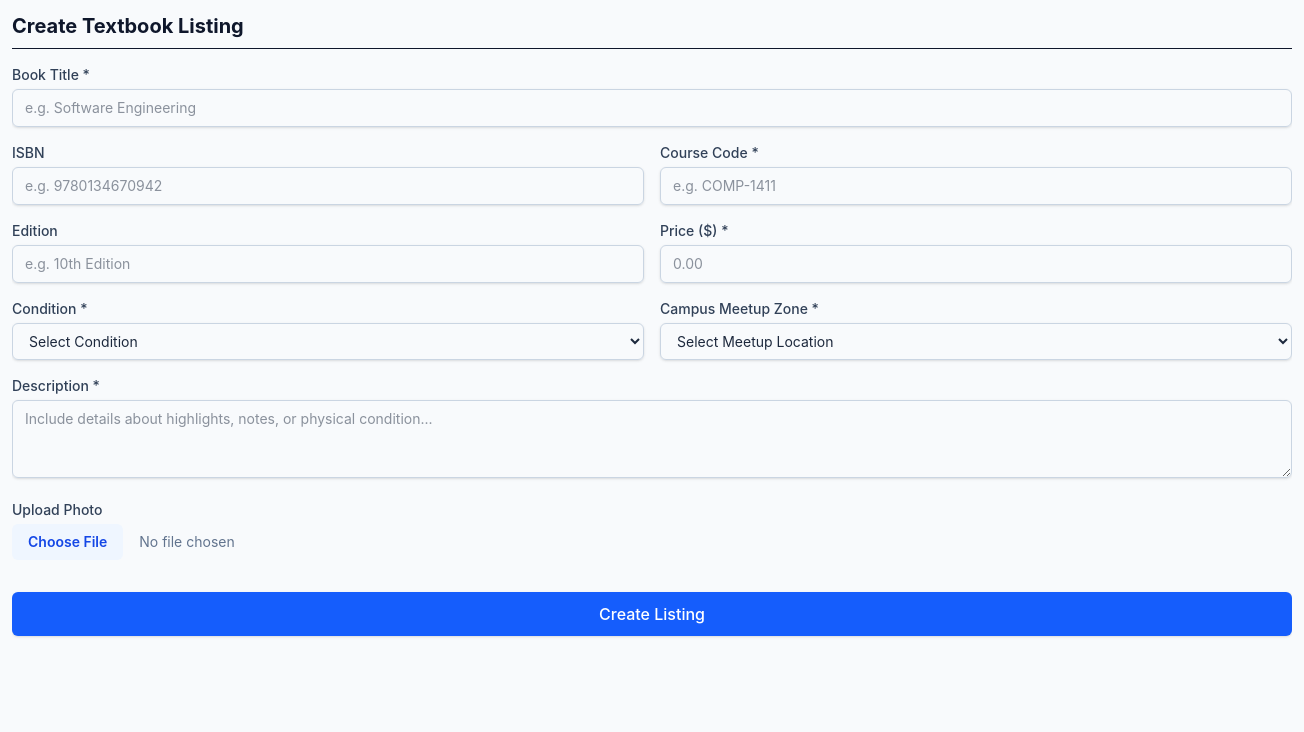
CreateListingForm Component (US-06) › displays a validation error when mandatory fields are missing
The width and height of the screenshot is (1304, 732).
Click the button "Create Listing" at [652, 614], box [12,592,1292,636]
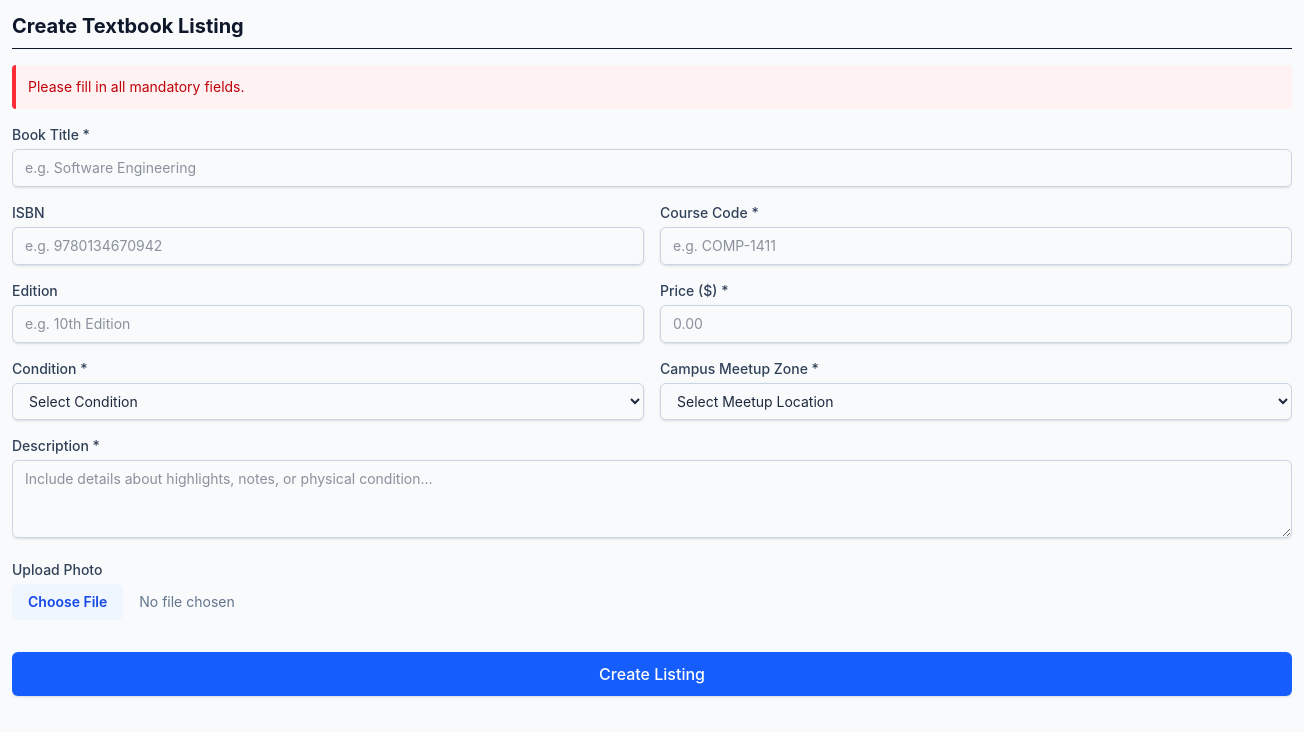
Expected: the text "Please fill in all mandatory fields." is shown, [12,65,1292,109]
